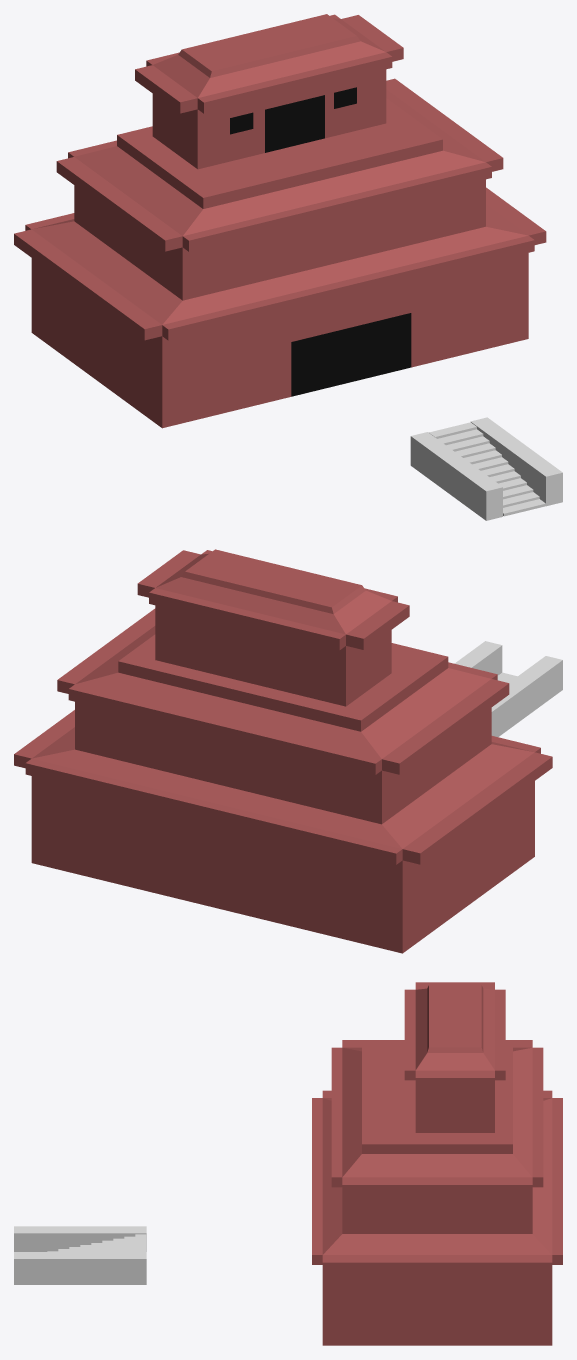
The model's file is LowPolyJaguarTemple.FBX.
The picture shows the model from 3 angles, top to bottom: view 1: azimuth 30°, elevation 25°; view 2: azimuth 150°, elevation 25°; view 3: azimuth 270°, elevation 25°; orthographic projection. The views are drawn at different scales.
Parts seen in each view (by area): view 1: Temple_Jaguar, Prop2, Stairs1, Prop1; view 2: Temple_Jaguar, Prop2, Prop1; view 3: Temple_Jaguar, Prop1, Prop2, Stairs1.
Part boxes in pixels (x1=…): Temple_Jaguar: x1=14, y1=14, x2=546, y2=428; Prop2: x1=410, y1=432, x2=502, y2=520; Stairs1: x1=429, y1=422, x2=545, y2=516; Prop1: x1=470, y1=417, x2=562, y2=506; Temple_Jaguar: x1=14, y1=549, x2=552, y2=953; Prop2: x1=491, y1=656, x2=562, y2=736; Prop1: x1=455, y1=641, x2=502, y2=675; Temple_Jaguar: x1=312, y1=982, x2=562, y2=1345; Prop1: x1=14, y1=1252, x2=146, y2=1284; Prop2: x1=14, y1=1226, x2=146, y2=1251; Stairs1: x1=47, y1=1234, x2=146, y2=1251.
Bounding box in the file's own units: 150 × 102 × 203.
